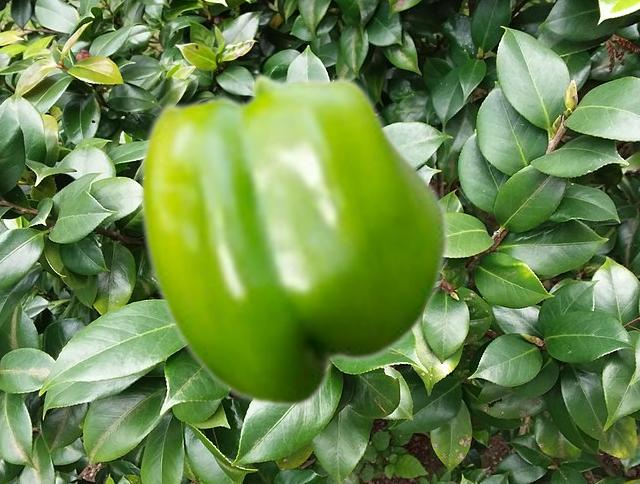bell_pepper: (139, 72, 449, 408)
